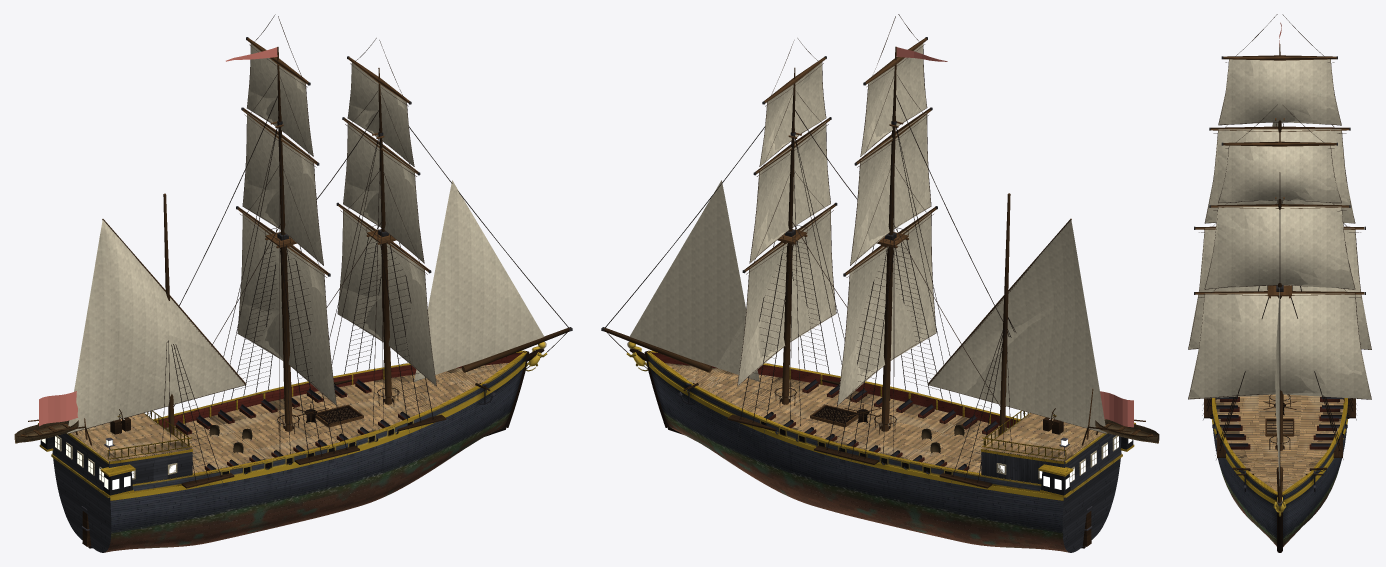
Rendered from fleut.glb.
3 views of the same model, side by side, from view 1: azimuth 30°, elevation 25°; view 2: azimuth 150°, elevation 25°; view 3: azimuth 270°, elevation 25° (orthographic). The views are drawn at different scales.
Visible parts, largest first — view 1: LOD0_Body, LOD0_Wood, LOD2_m1_SquareSail, LOD0_m2_AftSail, LOD2_m0_SquareSail, LOD2_Body, LOD0_Jib, LOD2_Wood, LOD1_Wood, LOD1_m2_AftSail, LOD0_m1_SquareSail, LOD1_m1_SquareSail (+10 smaller); view 2: LOD0_Body, LOD0_Wood, LOD2_m1_SquareSail, LOD2_m2_AftSail, LOD2_m0_SquareSail, LOD2_Body, LOD2_Jib, LOD2_Wood, LOD1_Wood, LOD0_m1_SquareSail, LOD1_m1_SquareSail, LOD0_m2_AftSail (+10 smaller); view 3: LOD0_m0_SquareSail, LOD0_m1_SquareSail, LOD0_Body, LOD2_Body, LOD0_Wood, LOD2_m0_SquareSail, LOD1_m0_SquareSail, LOD1_m1_SquareSail, LOD2_m1_SquareSail, LOD2_m0_SquareYards, LOD2_m1_SquareYards, LOD0_m0_SquareYards (+7 smaller).
Boxes of the visible parts, box(x1,y1,x2,y2) form: LOD0_Body: box(53, 255, 547, 552); LOD0_Wood: box(14, 47, 572, 552); LOD2_m1_SquareSail: box(238, 46, 335, 400); LOD0_m2_AftSail: box(67, 220, 244, 433); LOD2_m0_SquareSail: box(338, 64, 434, 382); LOD2_Body: box(81, 352, 526, 550); LOD0_Jib: box(414, 180, 521, 381); LOD2_Wood: box(59, 116, 567, 542); LOD1_Wood: box(54, 54, 569, 552); LOD1_m2_AftSail: box(68, 223, 244, 432); LOD0_m1_SquareSail: box(237, 44, 335, 401); LOD1_m1_SquareSail: box(239, 77, 336, 404); LOD0_Body: box(626, 255, 1102, 552); LOD0_Wood: box(601, 46, 1159, 552); LOD2_m1_SquareSail: box(838, 57, 934, 396); LOD2_m2_AftSail: box(929, 220, 1105, 432); LOD2_m0_SquareSail: box(738, 73, 834, 375); LOD2_Body: box(647, 352, 1105, 550); LOD2_Jib: box(629, 180, 758, 379); LOD2_Wood: box(604, 116, 1114, 542); LOD1_Wood: box(604, 46, 1119, 552); LOD0_m1_SquareSail: box(838, 44, 935, 404); LOD1_m1_SquareSail: box(839, 57, 936, 403); LOD0_m2_AftSail: box(929, 230, 1106, 433); LOD0_m0_SquareSail: box(1188, 145, 1361, 398); LOD0_m1_SquareSail: box(1188, 59, 1362, 348); LOD0_Body: box(1202, 394, 1356, 546); LOD2_Body: box(1215, 394, 1344, 546); LOD0_Wood: box(1204, 44, 1355, 552); LOD2_m0_SquareSail: box(1188, 145, 1371, 399); LOD1_m0_SquareSail: box(1194, 145, 1363, 395); LOD1_m1_SquareSail: box(1195, 59, 1363, 320); LOD2_m1_SquareSail: box(1189, 59, 1371, 349); LOD2_m0_SquareYards: box(1195, 142, 1364, 295); LOD2_m1_SquareYards: box(1195, 56, 1364, 229); LOD0_m0_SquareYards: box(1188, 104, 1371, 399).
Size of the model in its own units: 48.17 by 41.39 by 14.88.
5 materials, 3 textured.
